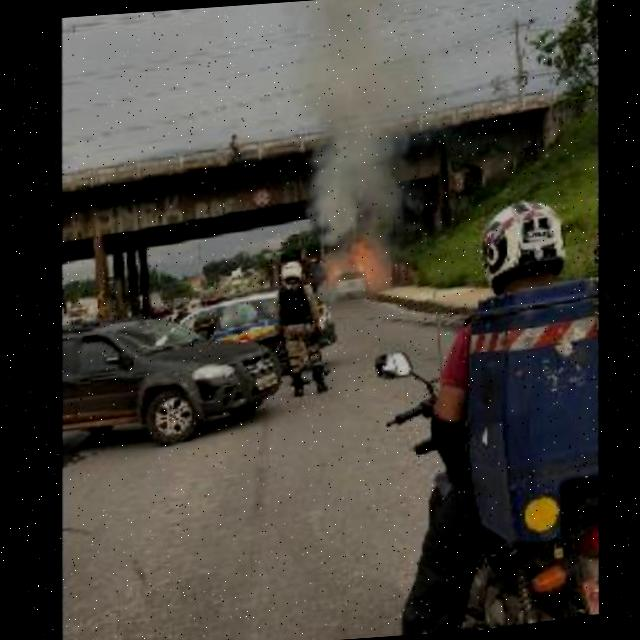fire: (314, 248, 383, 304)
